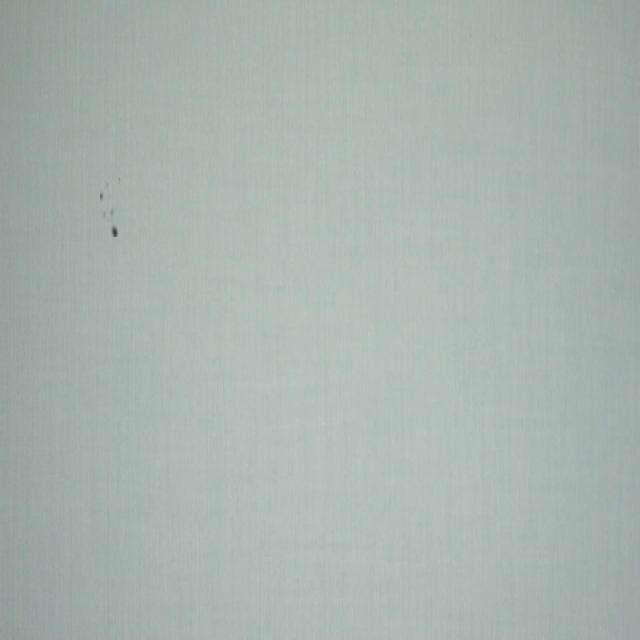dirty: (111, 226, 118, 237), (99, 192, 104, 202), (110, 207, 114, 217), (103, 210, 106, 220), (106, 181, 110, 188), (118, 177, 122, 182)
